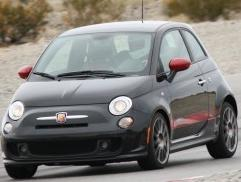front_view: (6, 93, 147, 159)
headlight: (101, 86, 136, 118)
side_glass: (153, 26, 205, 70)
